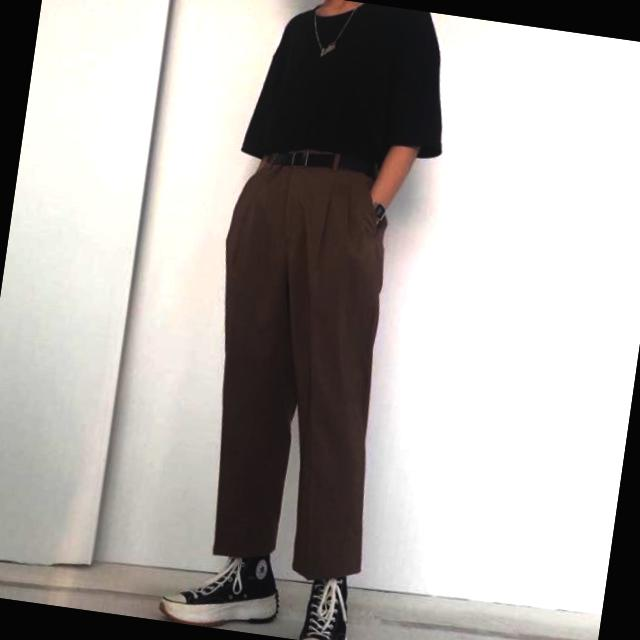shortsleeve: (237, 0, 458, 184)
slacks: (180, 154, 416, 592)
